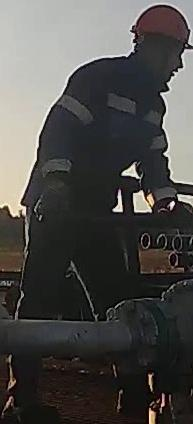gloves: (32, 170, 76, 224)
helmet: (128, 3, 193, 52)
vest: (23, 60, 168, 223)
